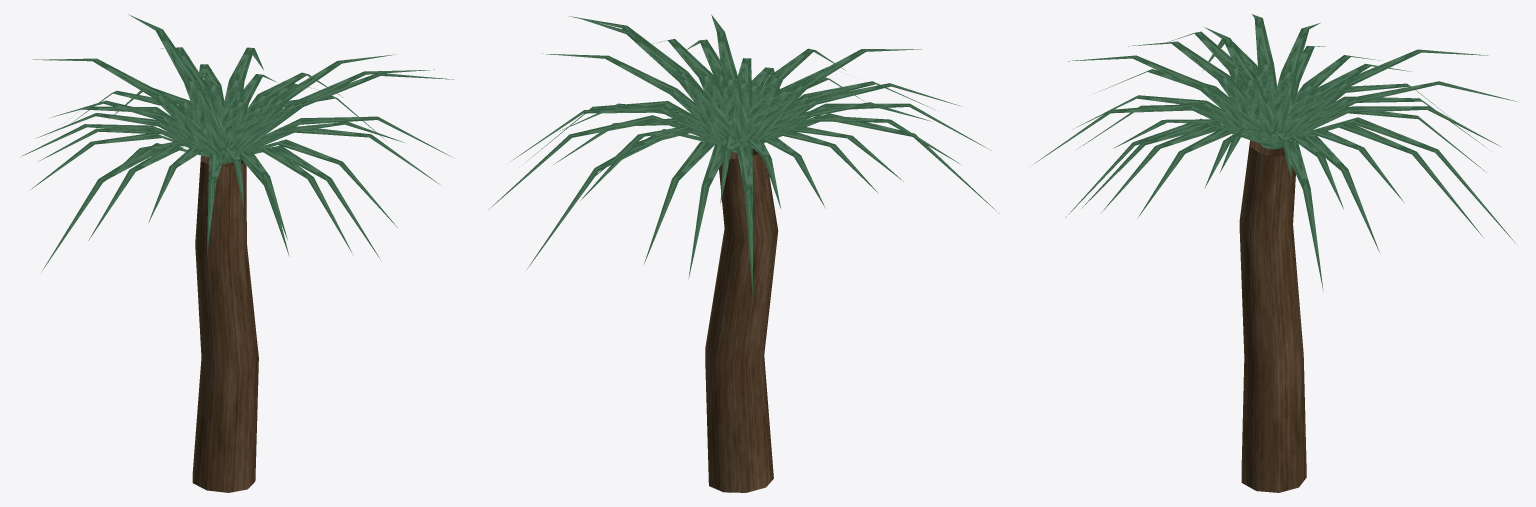
Rendered from Izote.obj.
The picture shows the model from 3 angles, left to right: view 1: azimuth 30°, elevation 25°; view 2: azimuth 150°, elevation 25°; view 3: azimuth 270°, elevation 25°; orthographic projection. The views are drawn at different scales.
Visible parts, largest first — view 1: Izote; view 2: Izote; view 3: Izote.
Boxes of the visible parts, x1,y1,x2,y2 form: Izote: [22, 14, 454, 492]; Izote: [488, 14, 999, 492]; Izote: [1033, 14, 1517, 492].
Size of the model in its own units: 3.28 by 2.92 by 3.22.
2 materials, 2 textured.
